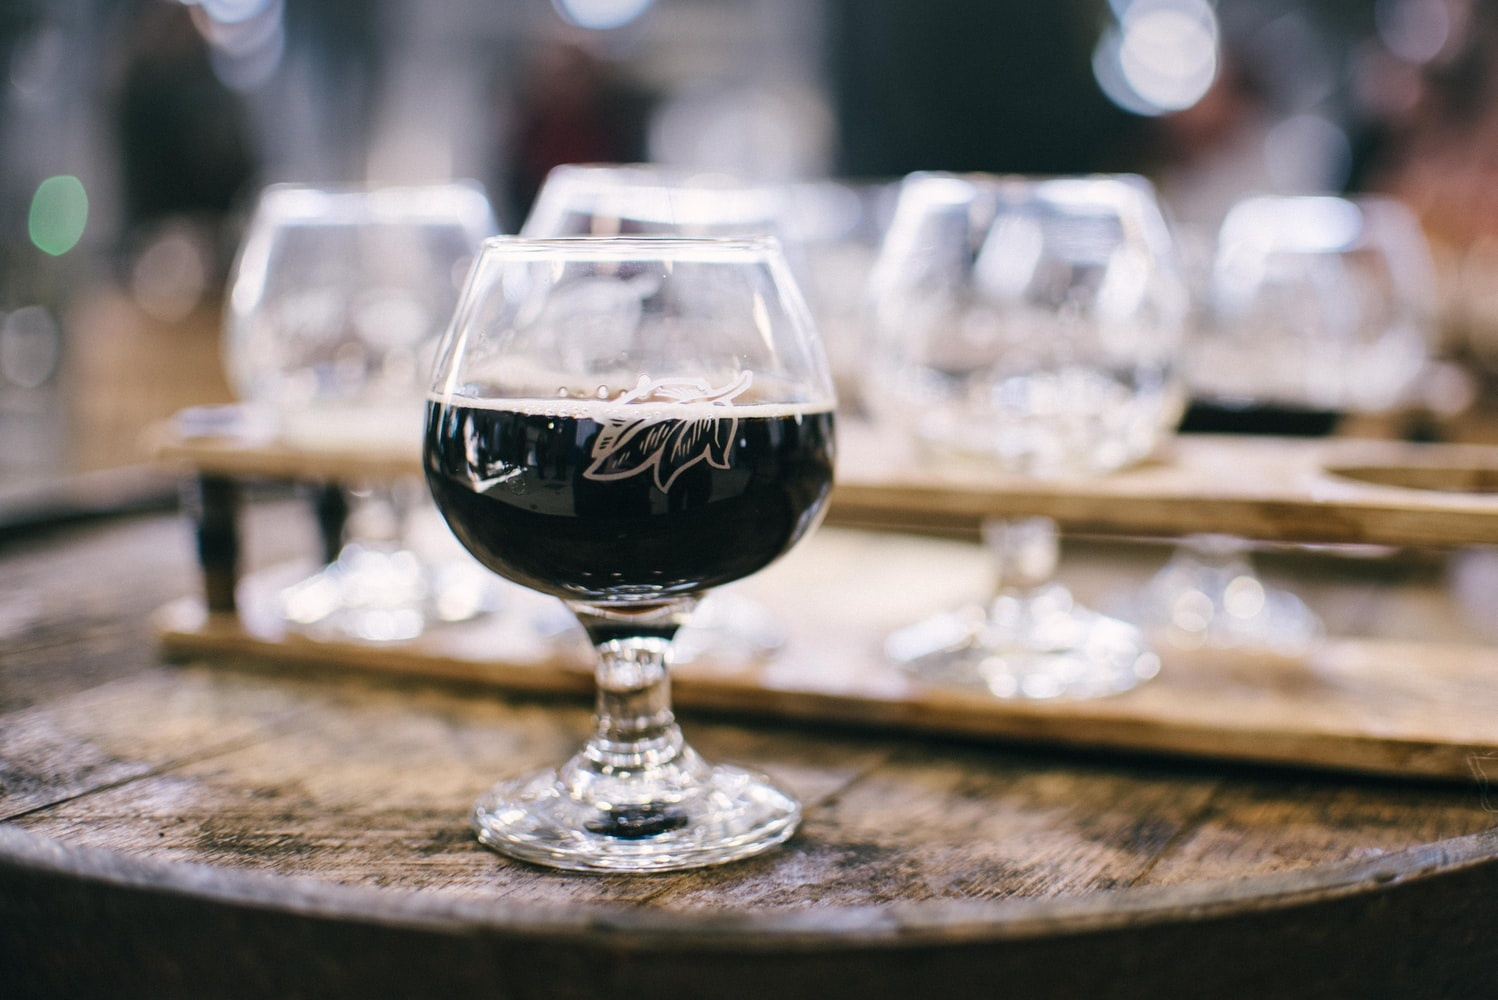whiskey: (435, 225, 848, 879)
